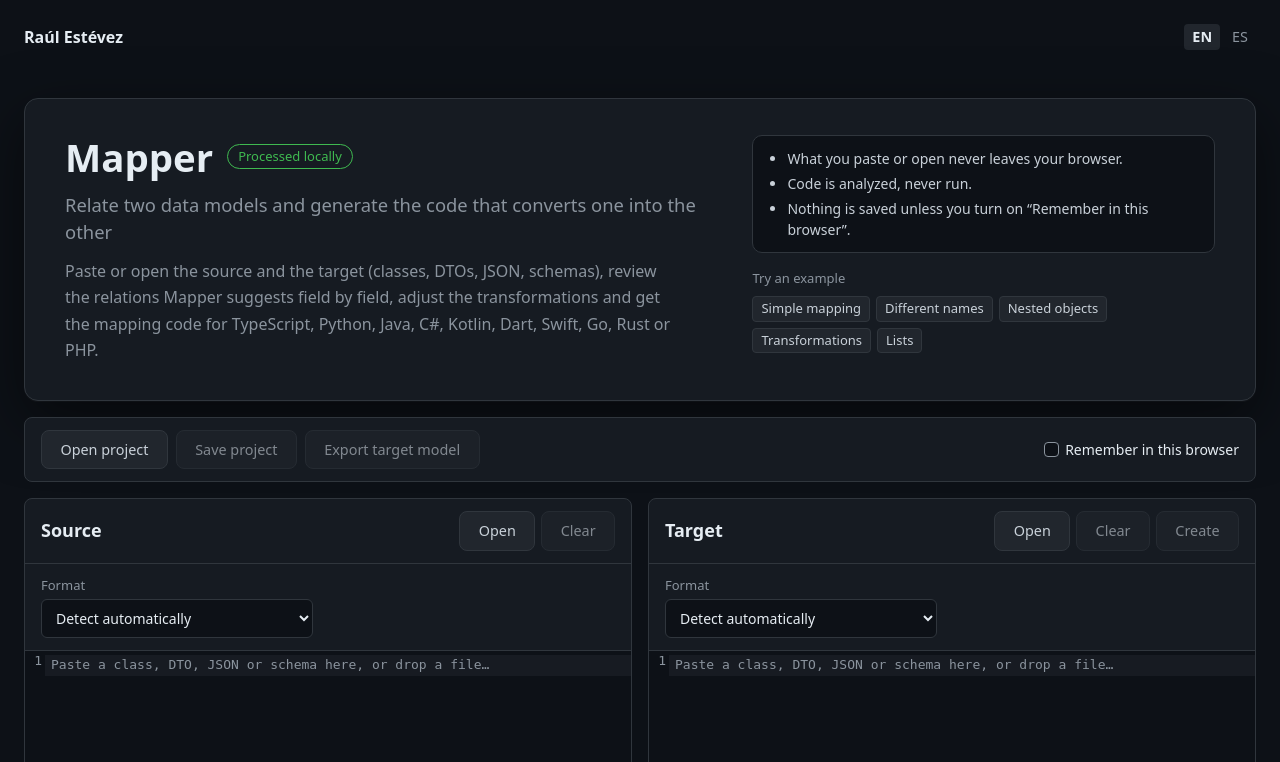
Test: Mapper › creates the target model from the source
The image size is (1280, 762).
Expected: the button "Create" is disabled, [1156,511,1239,551]
Click the button "Simple mapping" at (811, 309), box [752,296,870,322]
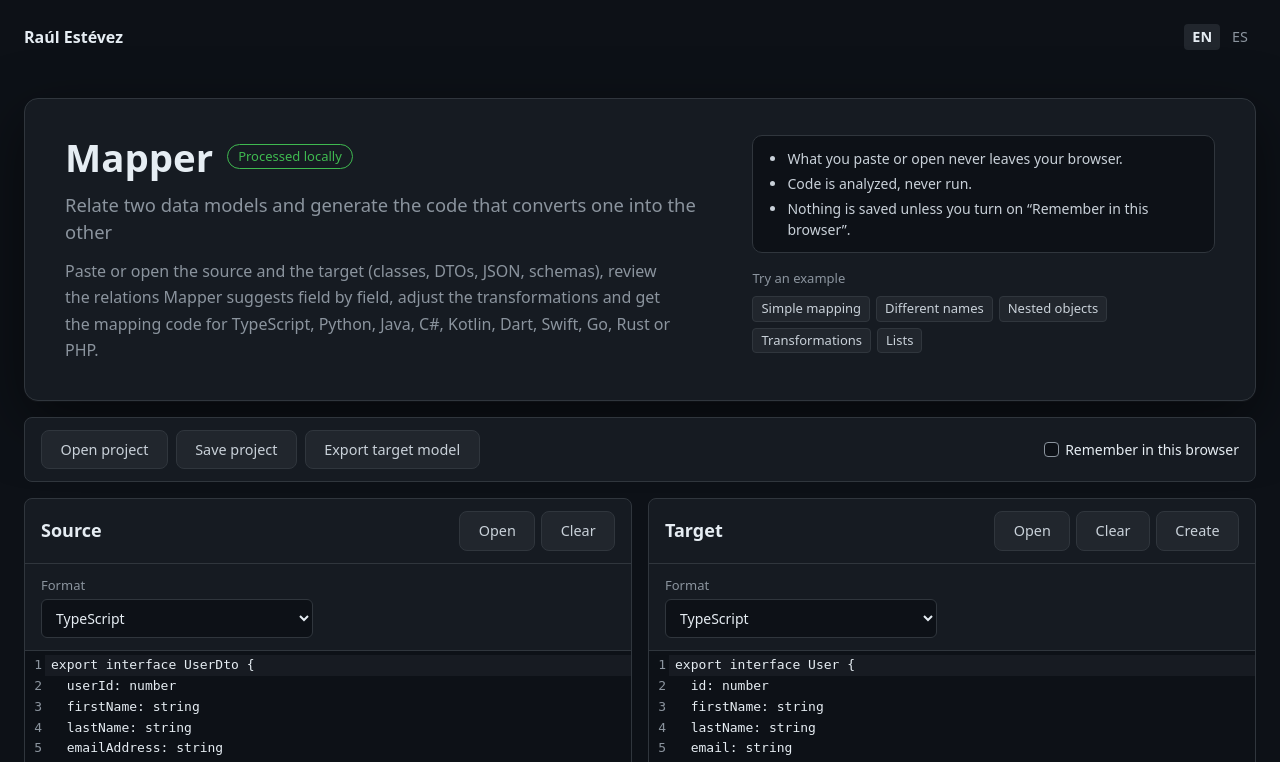
Click the 2nd button "Clear" at (1113, 531), box [1076,511,1150,551]
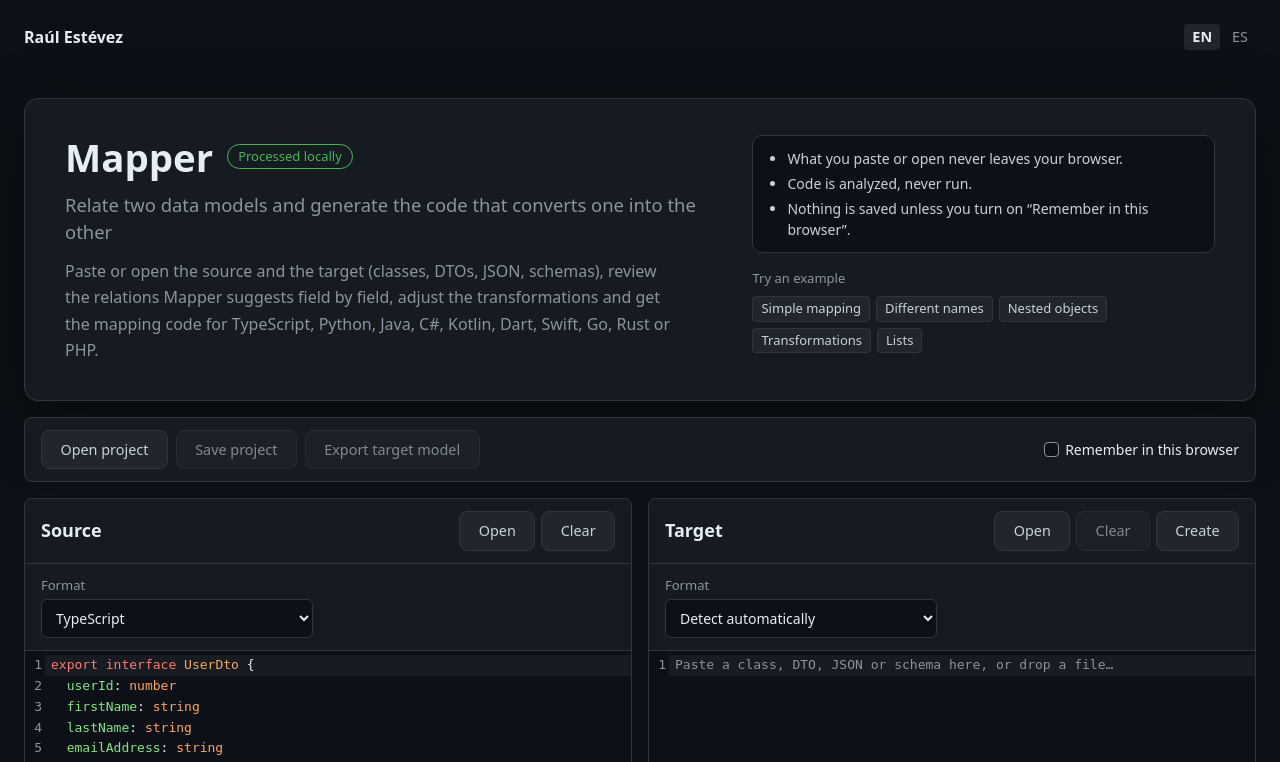
Expected: the button "Create" is enabled
Click the button "Create" at (1198, 531), box [1156,511,1239,551]
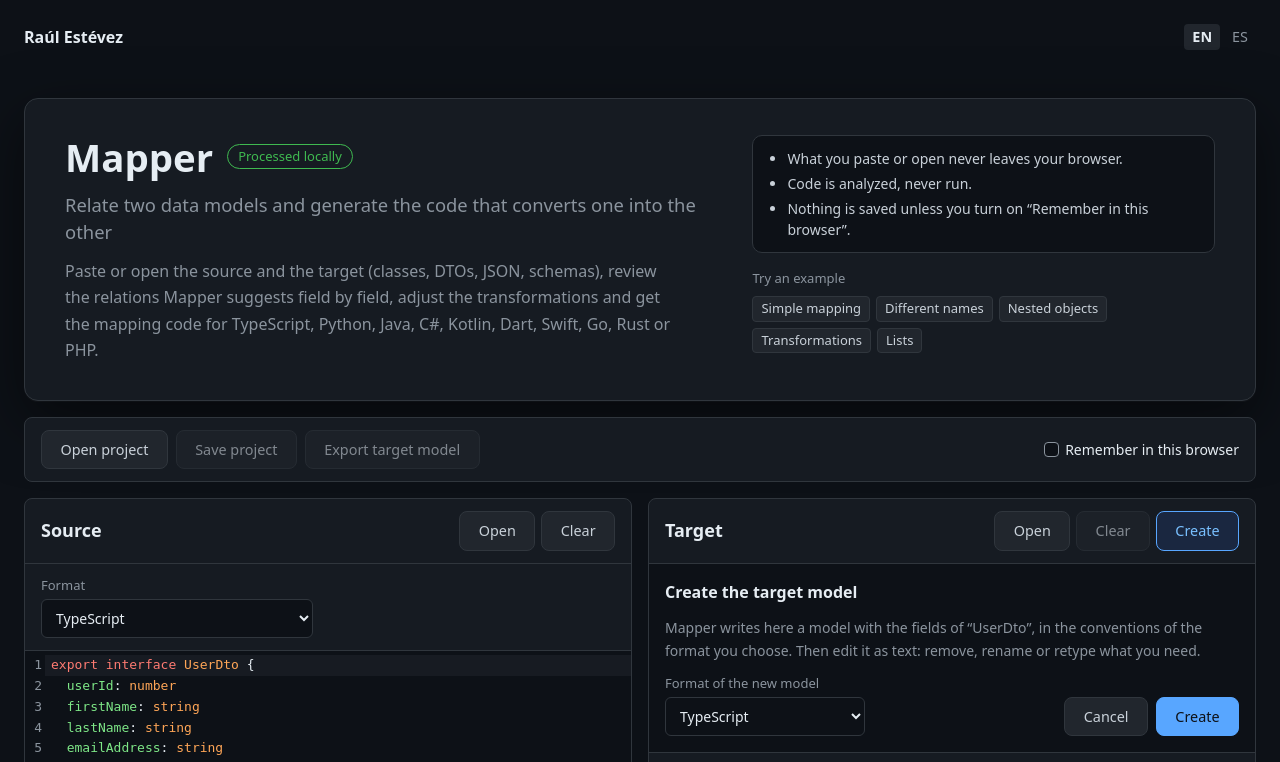
Select "Python" in the dropdown labelled "Format of the new model" at (765, 717), box [665,698,865,736]
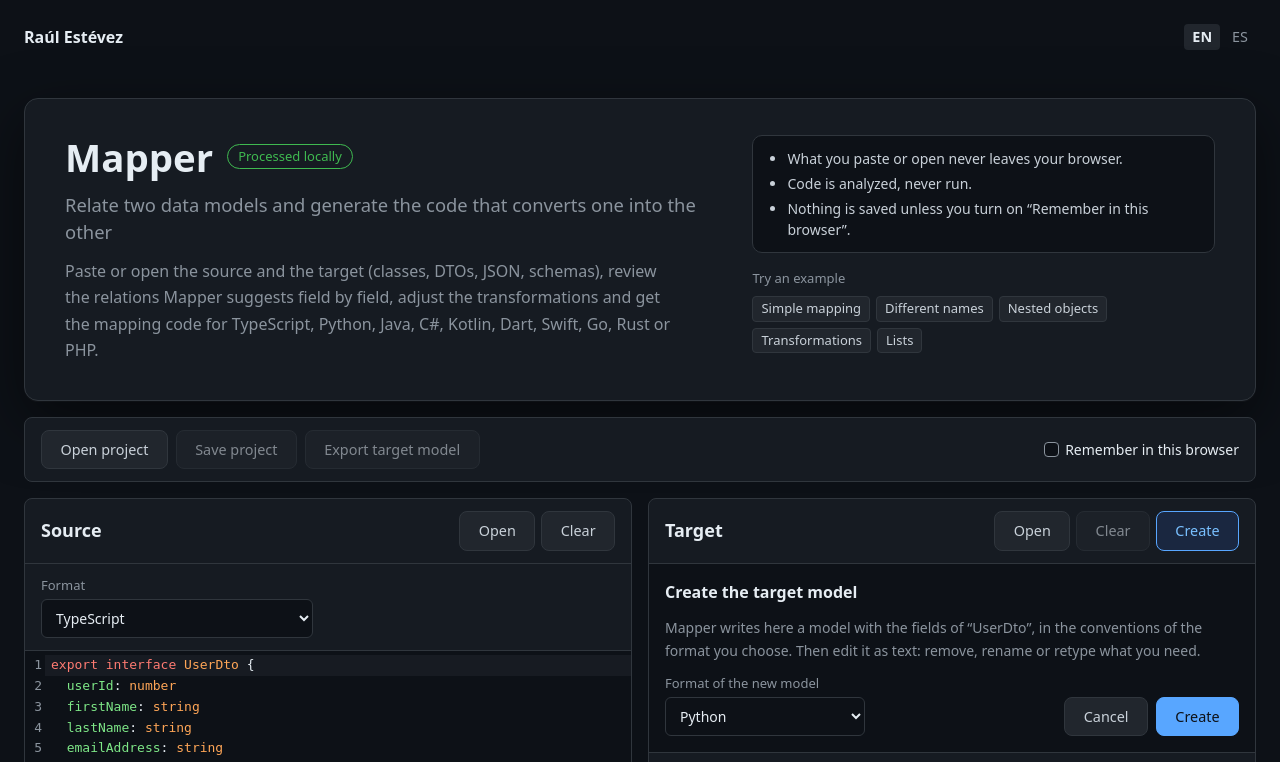
Click the 2nd button "Create" at (1198, 717), box [1156,697,1239,736]
(page scrolled)
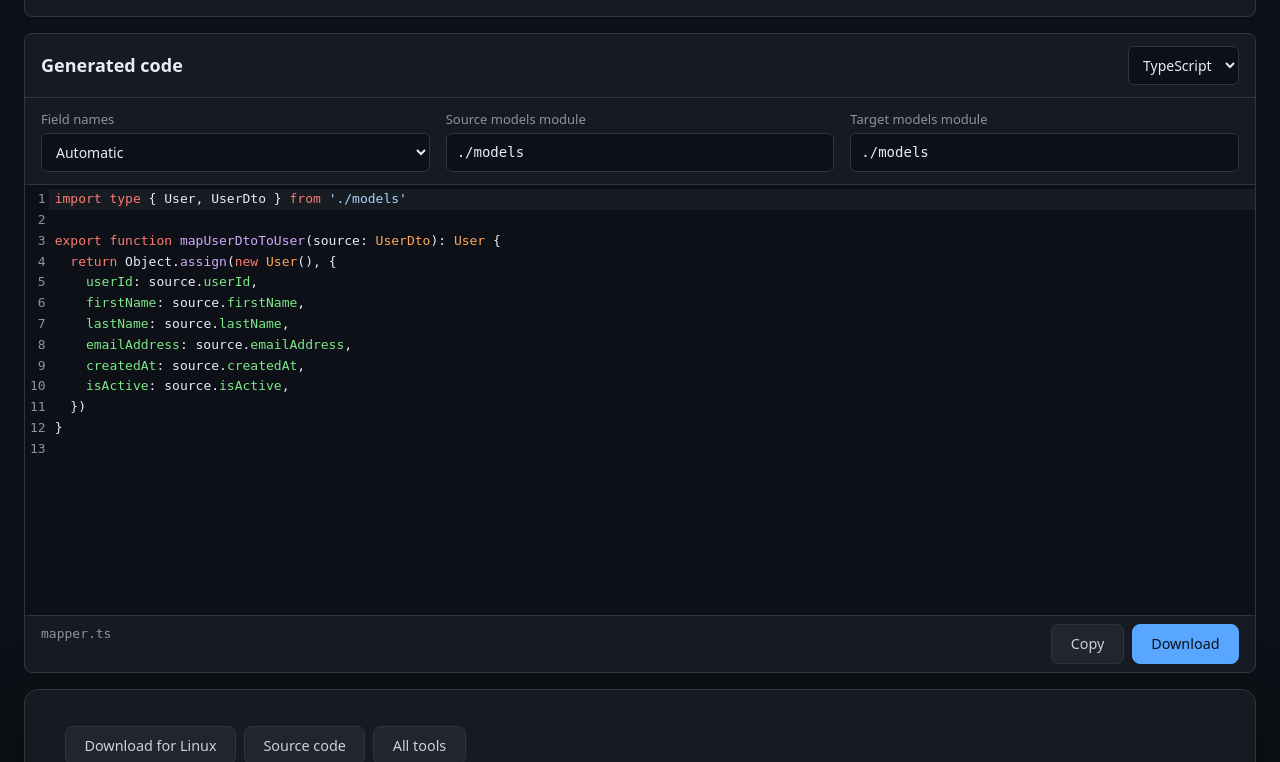
Expected: the field named "Generated TypeScript code" shows "export function mapUserDtoToUser(source: UserDto): User", [49,189,1255,435]
